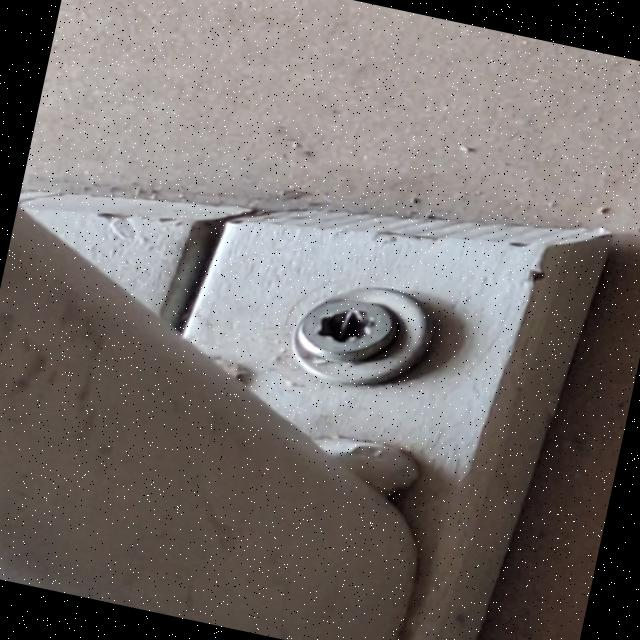Torx: (290, 279, 410, 378)
